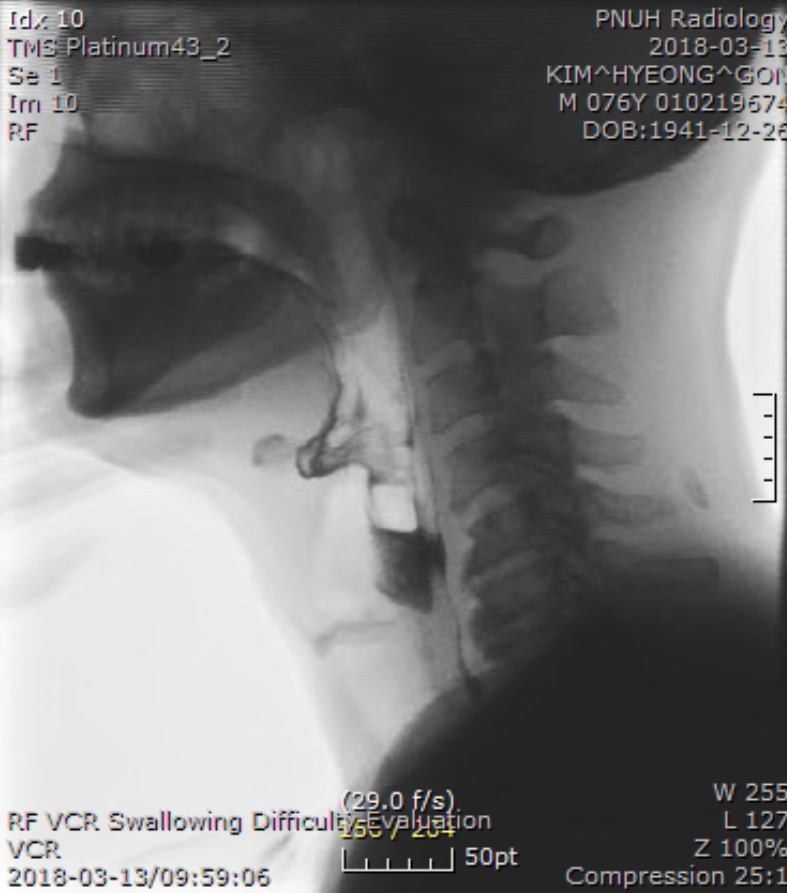dros: (407, 539, 473, 624)
food: (276, 367, 460, 646)
uros: (279, 414, 371, 494)
